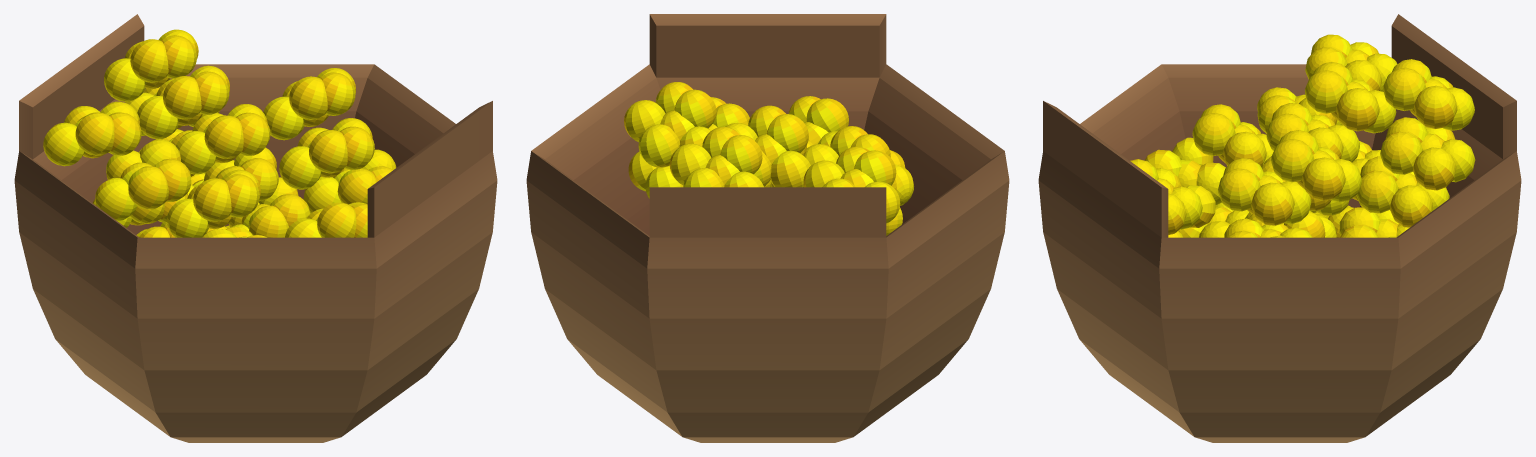
File: pappa per apette_polline.fbx
The picture shows the model from 3 angles, left to right: view 1: azimuth 30°, elevation 25°; view 2: azimuth 150°, elevation 25°; view 3: azimuth 270°, elevation 25°; orthographic projection.
Parts seen in each view (by area): view 1: cestino 1.001, Sphere.024, Sphere.043, Sphere.047, Sphere.050, Sphere.036, Sphere.049, Sphere.037, Sphere.048, Sphere.020, Sphere.002, Sphere.038 (+3 smaller); view 2: cestino 1.001, Sphere.048, Sphere.036, Sphere.049, Sphere.043, Sphere.038, Sphere.037, Sphere.020, Sphere.047, Sphere.025; view 3: cestino 1.001, Sphere.035, Sphere.036, Sphere.047, Sphere.048, Sphere.049, Sphere.032, Sphere.037, Sphere.025, Sphere.043, Sphere.050, Sphere.038 (+6 smaller).
Part boxes in pixels (bbox=[...]): cestino 1.001: bbox=[14, 14, 497, 442]; Sphere.024: bbox=[95, 139, 191, 220]; Sphere.043: bbox=[43, 101, 141, 166]; Sphere.047: bbox=[279, 118, 374, 189]; Sphere.050: bbox=[176, 104, 270, 174]; Sphere.036: bbox=[104, 29, 198, 101]; Sphere.049: bbox=[137, 65, 229, 139]; Sphere.037: bbox=[167, 169, 260, 237]; Sphere.048: bbox=[263, 68, 355, 140]; Sphere.020: bbox=[303, 149, 396, 213]; Sphere.002: bbox=[228, 177, 309, 237]; Sphere.038: bbox=[285, 202, 367, 237]; cestino 1.001: bbox=[526, 14, 1009, 442]; Sphere.048: bbox=[624, 82, 716, 167]; Sphere.036: bbox=[669, 126, 763, 187]; Sphere.049: bbox=[725, 105, 810, 187]; Sphere.043: bbox=[803, 146, 900, 223]; Sphere.038: bbox=[788, 96, 848, 147]; Sphere.037: bbox=[804, 126, 890, 165]; Sphere.020: bbox=[628, 151, 683, 198]; Sphere.047: bbox=[708, 97, 749, 130]; Sphere.025: bbox=[890, 150, 913, 205]; cestino 1.001: bbox=[1038, 14, 1521, 442]; Sphere.035: bbox=[1380, 117, 1475, 190]; Sphere.036: bbox=[1383, 59, 1474, 130]; Sphere.047: bbox=[1218, 158, 1311, 225]; Sphere.048: bbox=[1271, 130, 1361, 202]; Sphere.049: bbox=[1304, 62, 1396, 133]; Sphere.032: bbox=[1356, 156, 1449, 227]; Sphere.037: bbox=[1192, 104, 1273, 166]; Sphere.025: bbox=[1144, 137, 1225, 227]; Sphere.043: bbox=[1305, 34, 1397, 91]; Sphere.050: bbox=[1266, 103, 1359, 162]; Sphere.038: bbox=[1130, 159, 1202, 234].
Bounding box in the file's own units: 243 × 207 × 281.
30 materials, 30 textured.
